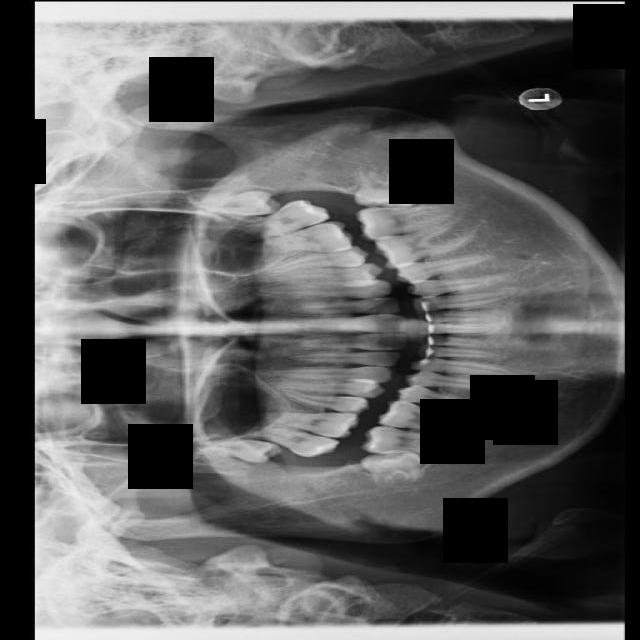3M ESPE Implant: (194, 433, 283, 464)
73: (566, 32, 582, 44)
BioHorizons Implant: (232, 191, 331, 246)
BioLife Implant: (188, 188, 282, 217)
Biomet 3i Implant: (353, 162, 420, 213)
Blue Sky Bio Implant: (355, 202, 452, 240)
Caries: (237, 416, 340, 463)
Implant: (362, 425, 457, 453)
Keystone Dental Implant: (360, 446, 424, 487)
